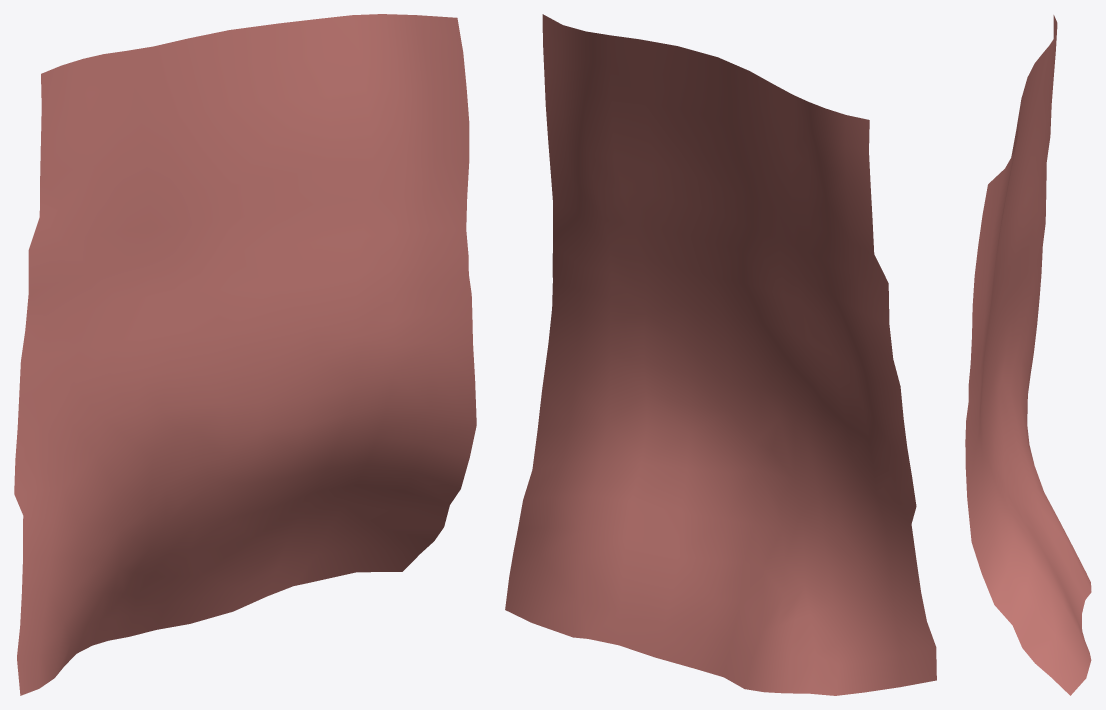
3 renders of one model, left to right at view 1: azimuth 30°, elevation 25°; view 2: azimuth 150°, elevation 25°; view 3: azimuth 270°, elevation 25°, orthographic. The views are drawn at different scales.
Parts seen in each view (by area): view 1: ZA_8d92a4b0eafabd39; view 2: ZA_8d92a4b0eafabd39; view 3: ZA_8d92a4b0eafabd39.
Part boxes in pixels (box(x1,y1,x2,y2)): ZA_8d92a4b0eafabd39: box(14, 14, 476, 695); ZA_8d92a4b0eafabd39: box(505, 14, 936, 695); ZA_8d92a4b0eafabd39: box(965, 15, 1091, 695).
Size of the model in its own units: 0.0714 by 0.0968 by 0.0204.
